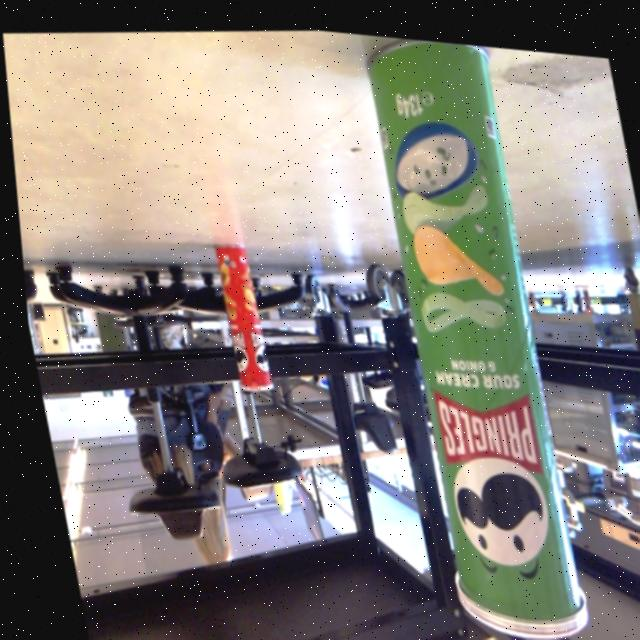greenpringles: (306, 23, 600, 640)
redpringles: (182, 212, 289, 408)
